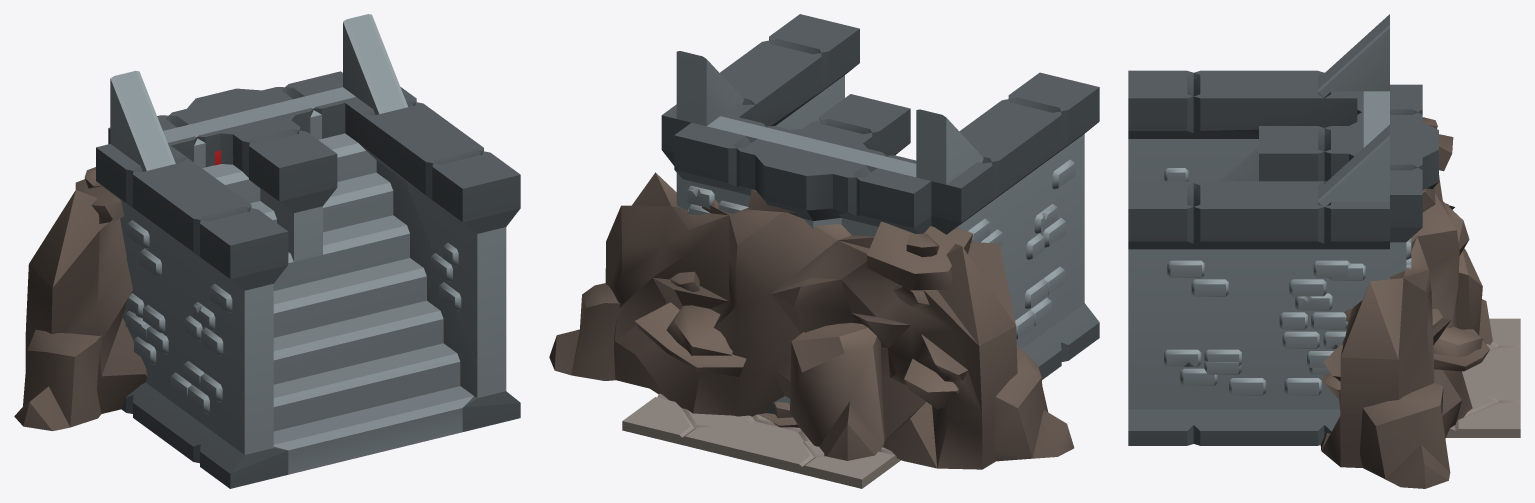
File: keep-interior.glb
3 views of the same model, side by side, from view 1: azimuth 30°, elevation 25°; view 2: azimuth 150°, elevation 25°; view 3: azimuth 270°, elevation 25° (orthographic). The views are drawn at different scales.
Parts seen in each view (by area): view 1: stairs_walled, stairs, rubble_large, wall_corner, wall_arched, wall_pillar; view 2: rubble_large, stairs_walled, stairs, floor_tile_large_rocks, wall_pillar, wall, wall_arched, wall_corner, floor_tile_large, pillar, pillar_decorated; view 3: stairs_walled, rubble_large, stairs, floor_tile_large_rocks, wall_corner, wall_arched, wall, wall_pillar, pillar_decorated, floor_tile_large.
Boxes of the visible parts, bbox=[...] form: stairs_walled: bbox=[96, 87, 520, 488]; stairs: bbox=[110, 14, 477, 463]; rubble_large: bbox=[14, 167, 147, 431]; wall_corner: bbox=[194, 118, 337, 261]; wall_arched: bbox=[108, 71, 345, 167]; wall_pillar: bbox=[171, 88, 295, 164]; rubble_large: bbox=[549, 172, 1074, 469]; stairs_walled: bbox=[661, 14, 1099, 379]; stairs: bbox=[676, 51, 1047, 338]; floor_tile_large_rocks: bbox=[622, 393, 900, 488]; wall_pillar: bbox=[674, 128, 918, 413]; wall: bbox=[674, 127, 931, 233]; wall_arched: bbox=[674, 117, 931, 233]; wall_corner: bbox=[800, 94, 917, 236]; floor_tile_large: bbox=[622, 414, 900, 488]; pillar: bbox=[766, 129, 861, 404]; pillar_decorated: bbox=[763, 130, 854, 397]; stairs_walled: bbox=[1128, 70, 1389, 445]; rubble_large: bbox=[1320, 117, 1492, 488]; stairs: bbox=[1193, 14, 1389, 444]; floor_tile_large_rocks: bbox=[1446, 318, 1520, 437]; wall_corner: bbox=[1259, 109, 1412, 181]; wall_arched: bbox=[1357, 84, 1422, 276]; wall: bbox=[1358, 145, 1422, 276]; wall_pillar: bbox=[1349, 122, 1438, 229]; pillar_decorated: bbox=[1341, 125, 1438, 160]; floor_tile_large: bbox=[1447, 348, 1520, 435].
Size of the model in its own units: 8.13 by 5.91 by 6.
Materials: 1 (1 with a texture image).
